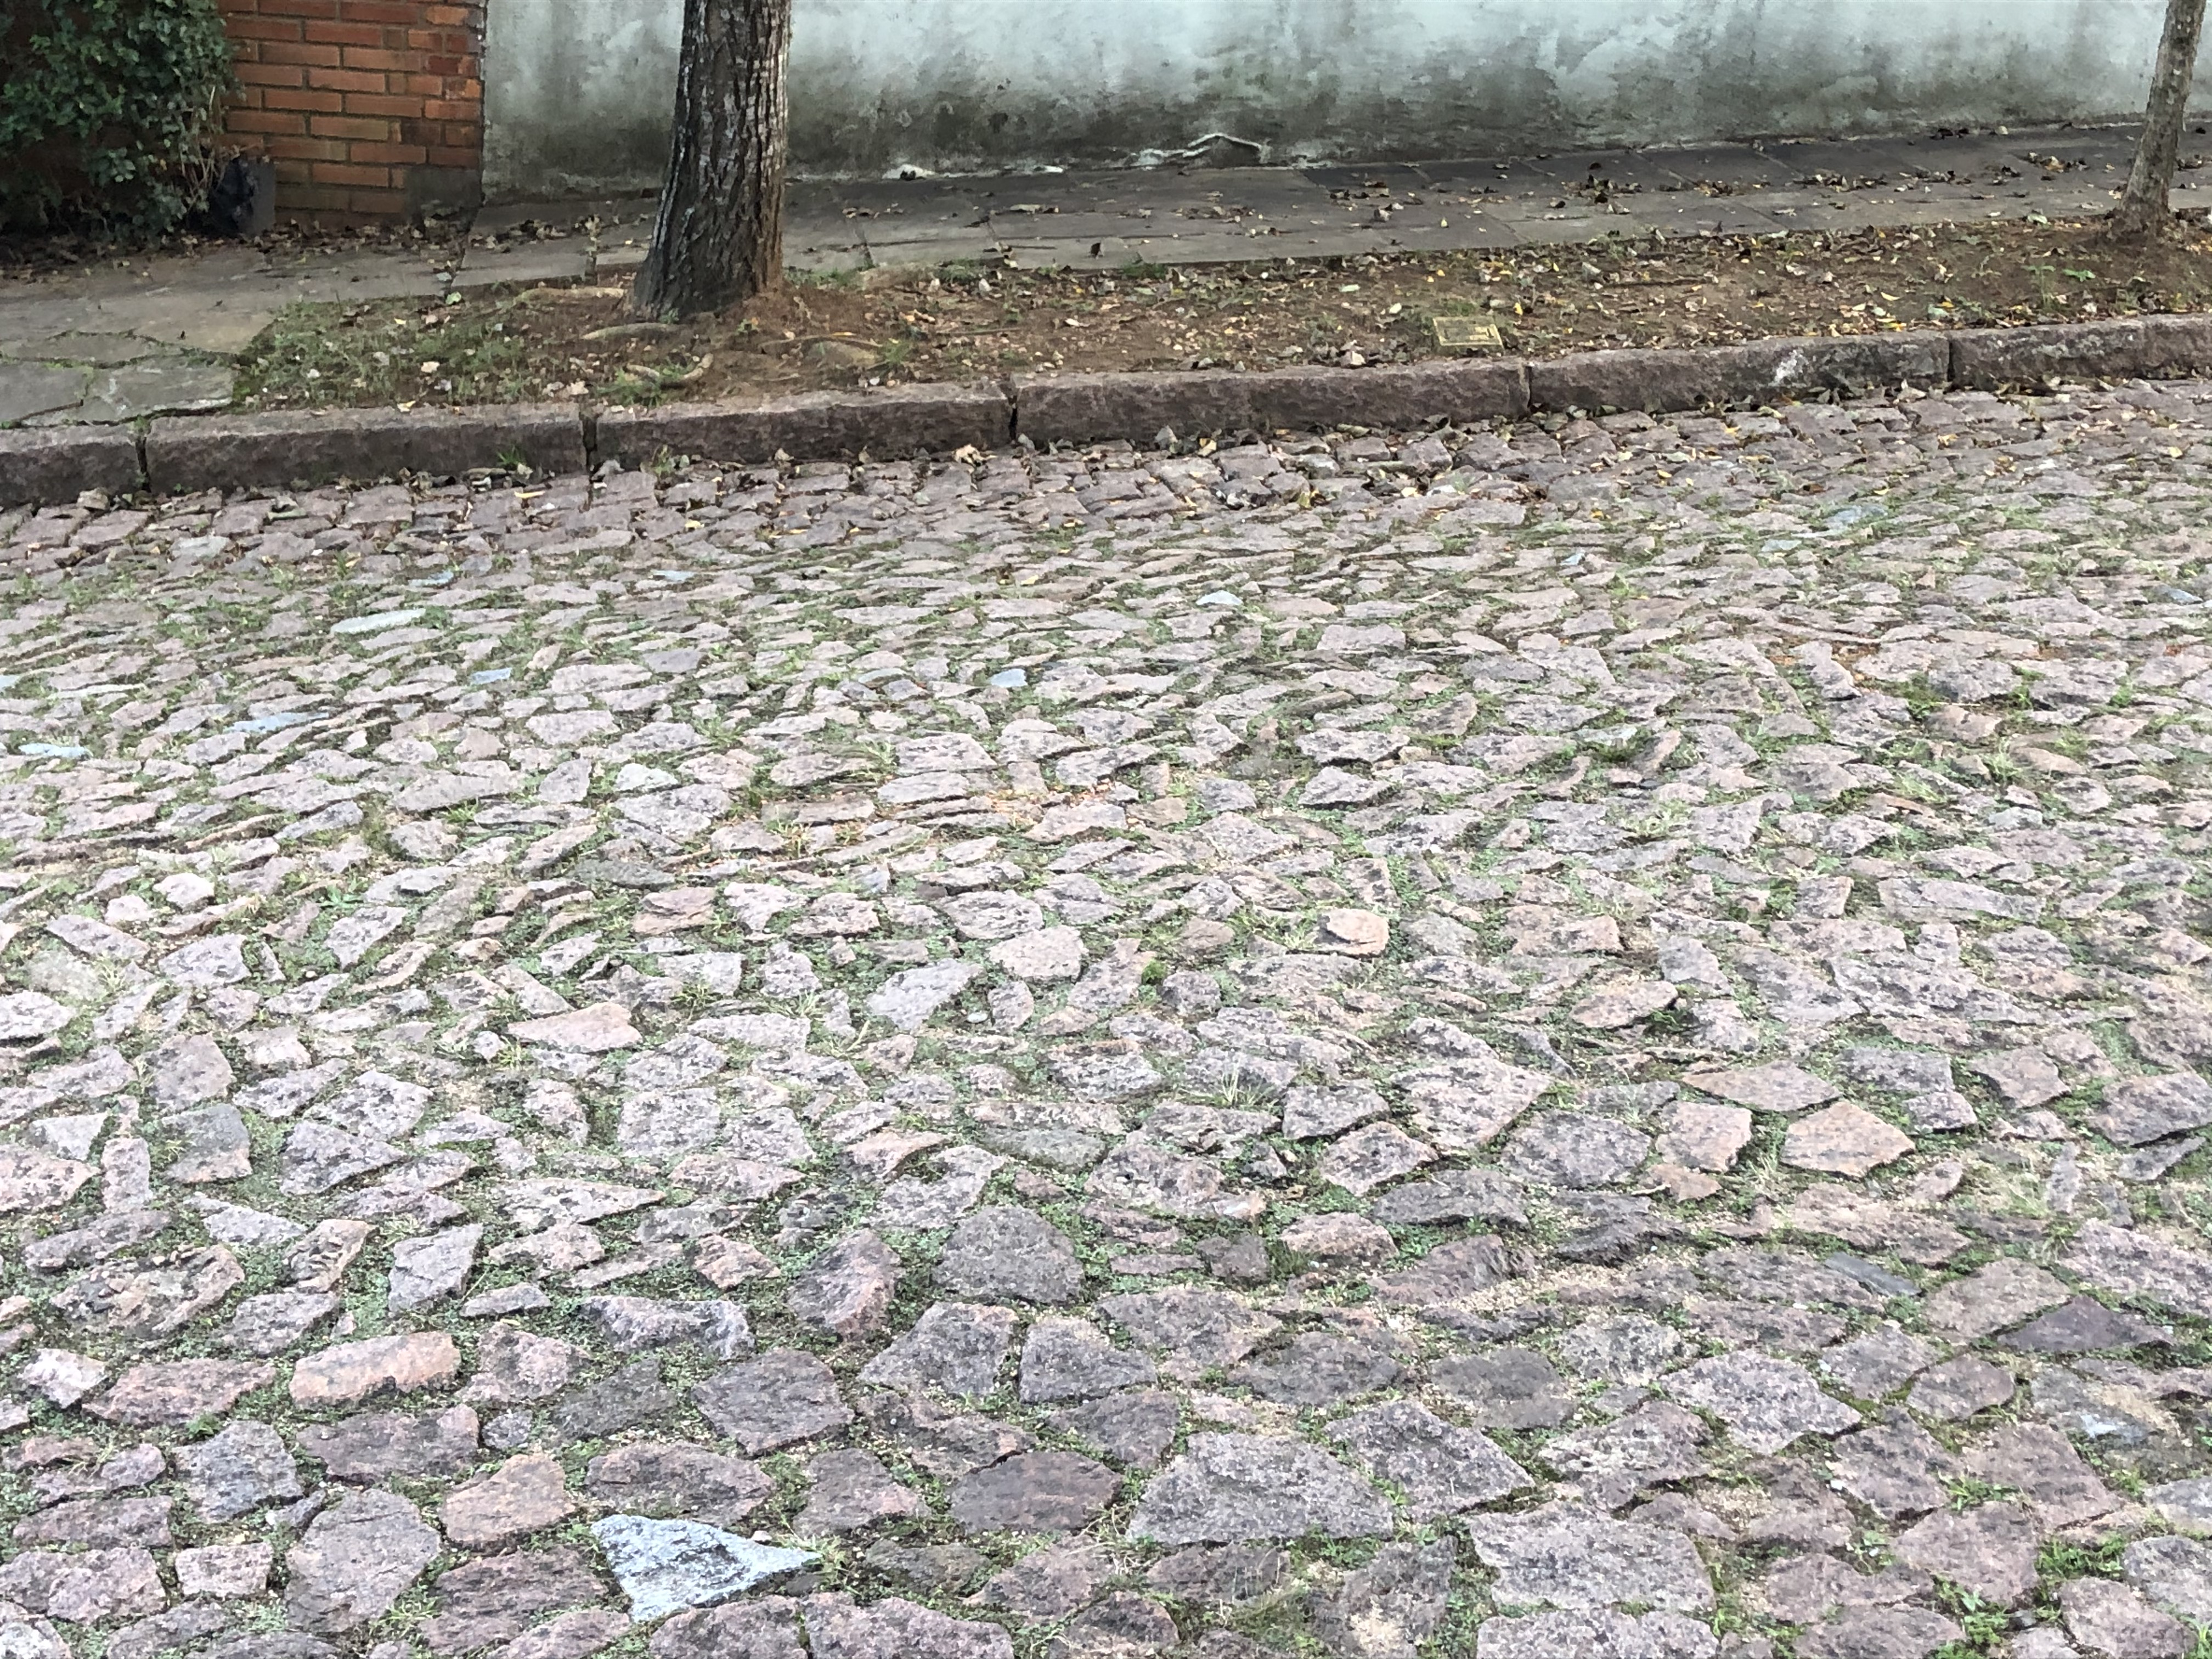vac1: (3, 0, 2207, 575)
